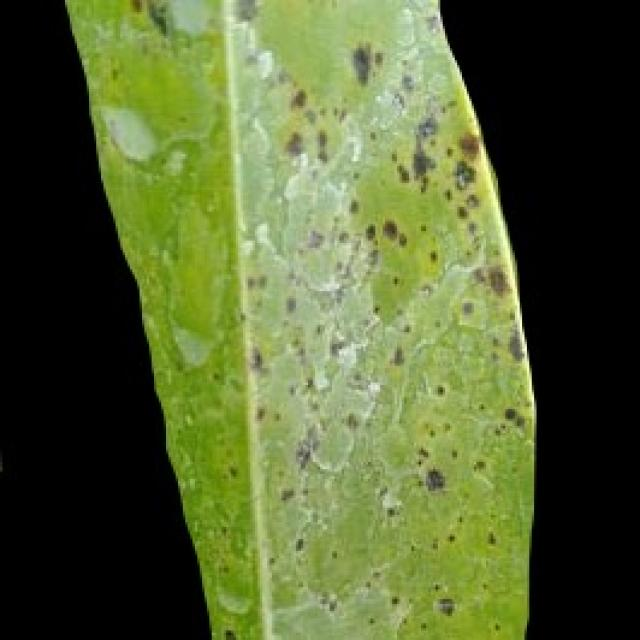mite: (421, 580, 467, 626), (493, 397, 529, 438), (142, 0, 171, 36), (349, 41, 371, 84), (450, 156, 476, 190), (498, 402, 525, 431), (421, 464, 445, 491), (214, 621, 243, 638), (433, 594, 455, 616), (380, 217, 397, 238), (500, 404, 517, 421), (460, 298, 474, 315), (219, 626, 238, 638)
